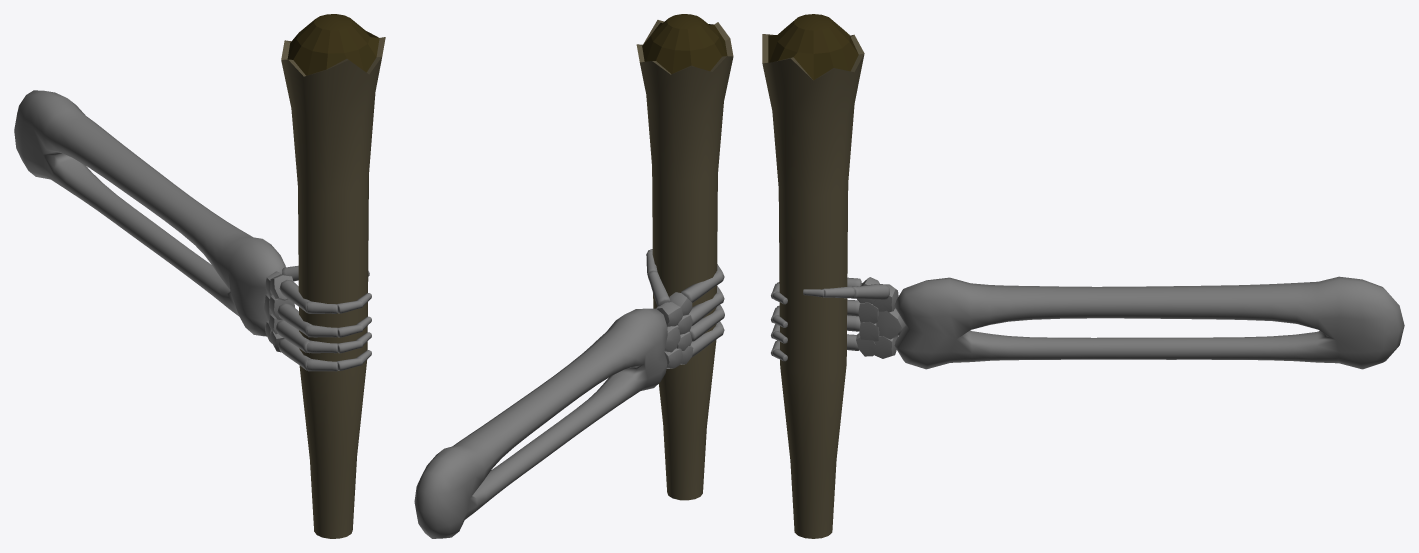
File: Antorcha con una Mano FBX.fbx
The picture shows the model from 3 angles, left to right: view 1: azimuth 30°, elevation 25°; view 2: azimuth 150°, elevation 25°; view 3: azimuth 270°, elevation 25°; orthographic projection. The views are drawn at different scales.
Parts seen in each view (by area): view 1: polySurface187; view 2: polySurface187; view 3: polySurface187.
Part boxes in pixels (box(x1,y1,x2,y2)): polySurface187: box(14, 14, 385, 538); polySurface187: box(414, 14, 733, 538); polySurface187: box(762, 14, 1404, 538).
Bounding box in the file's own units: 0.00656 × 0.0355 × 0.0402.
